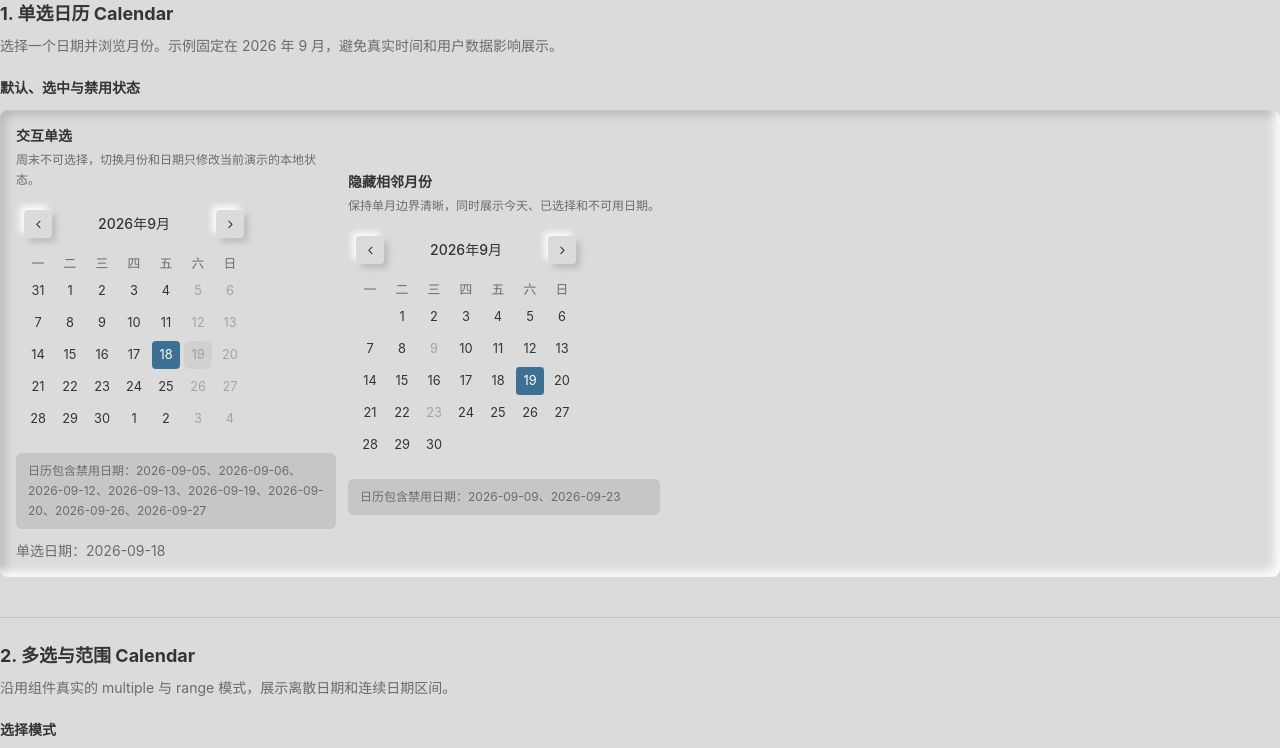
CalendarDemo › keeps selection local and restores the fixed fixture
Click the 1st button "17": [134, 355] box left=120, top=341, right=148, bottom=369
(page scrolled)
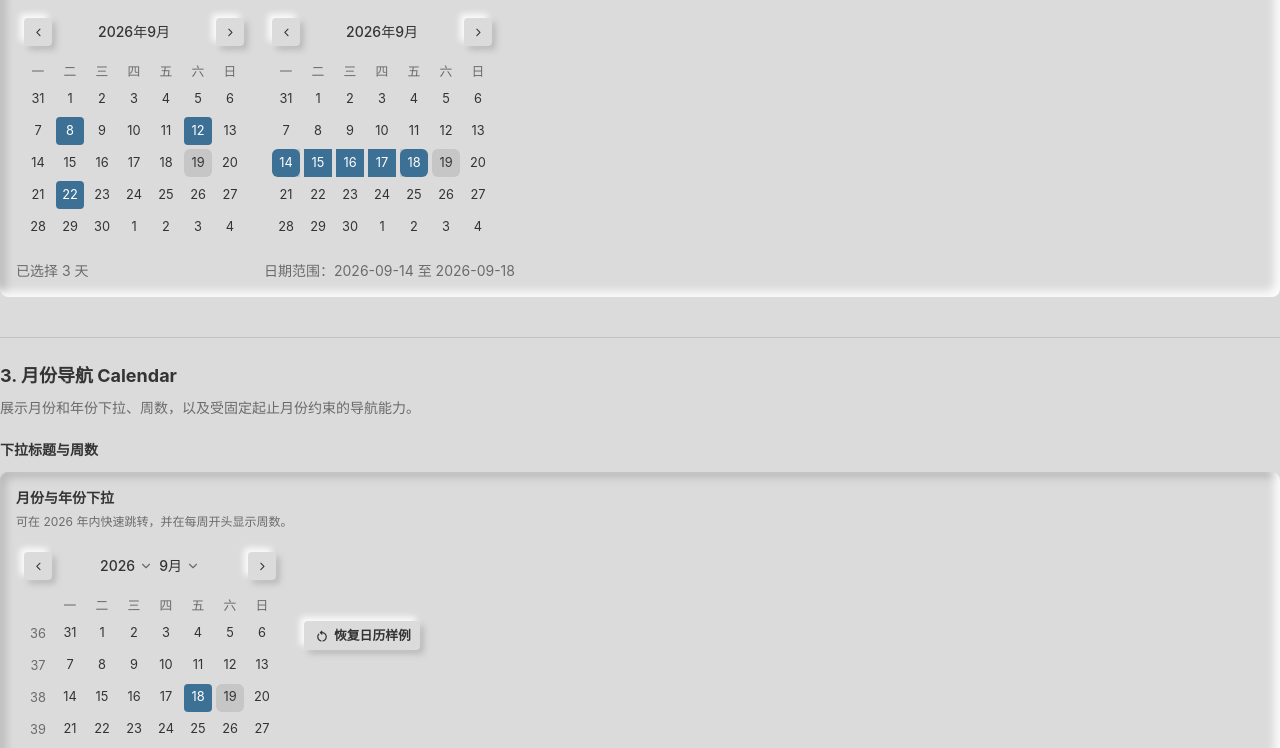
Click the button "恢复日历样例": [362, 636] box left=304, top=622, right=420, bottom=650
(page scrolled)
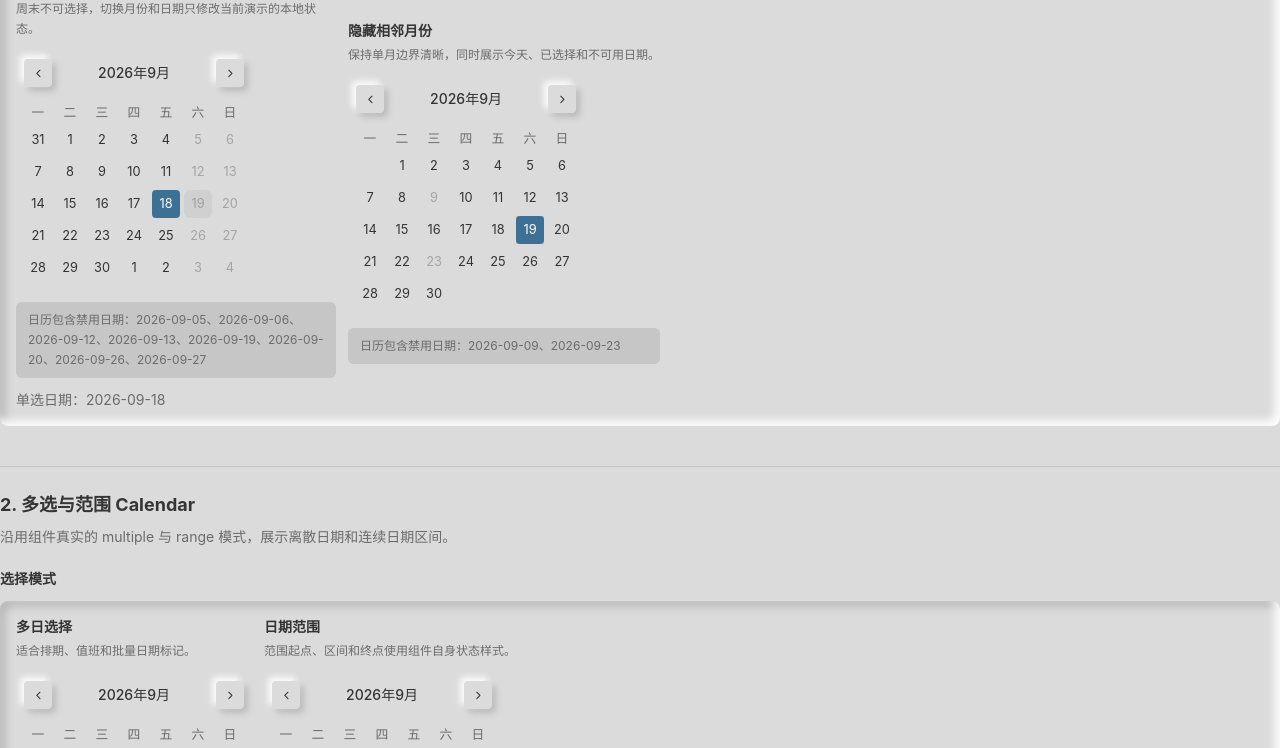
Expected: the text "单选日期：2026-09-18" is shown, left=16, top=391, right=165, bottom=408
